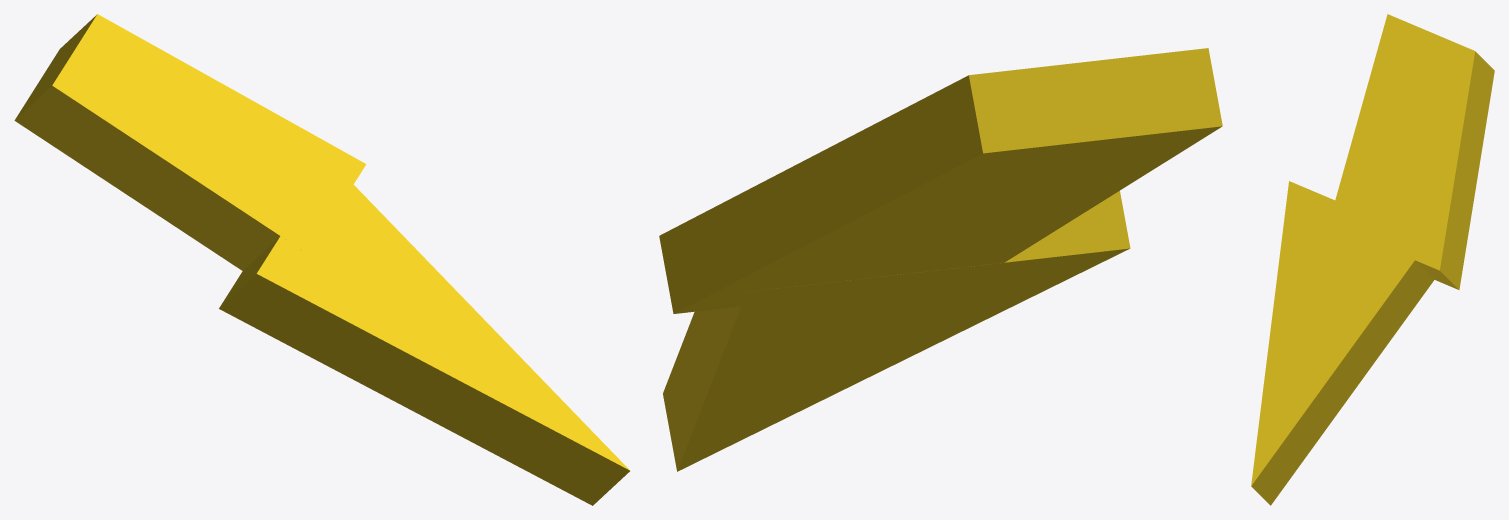
File: power.glb
The picture shows the model from 3 angles, left to right: view 1: azimuth 30°, elevation 25°; view 2: azimuth 150°, elevation 25°; view 3: azimuth 270°, elevation 25°; orthographic projection. The views are drawn at different scales.
Parts seen in each view (by area): view 1: power; view 2: power; view 3: power.
Boxes of the visible parts, x1,y1,x2,y2 form: power: [14, 14, 629, 505]; power: [659, 48, 1222, 471]; power: [1251, 14, 1494, 505].
Size of the model in its own units: 0.9995 by 0.8906 by 0.5894.
